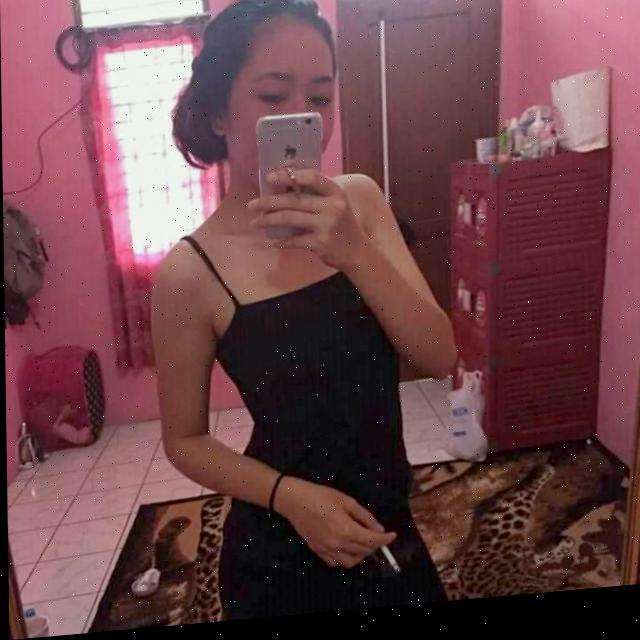cigarette: (378, 550, 400, 581)
